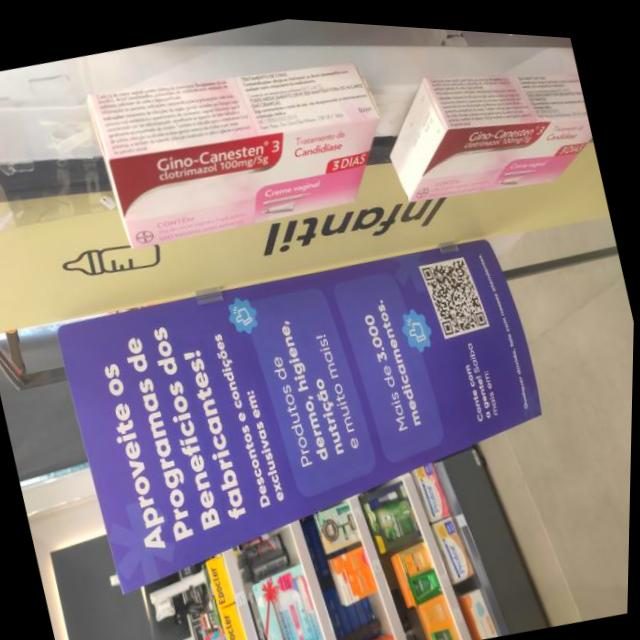qrcode: (422, 248, 491, 333)
